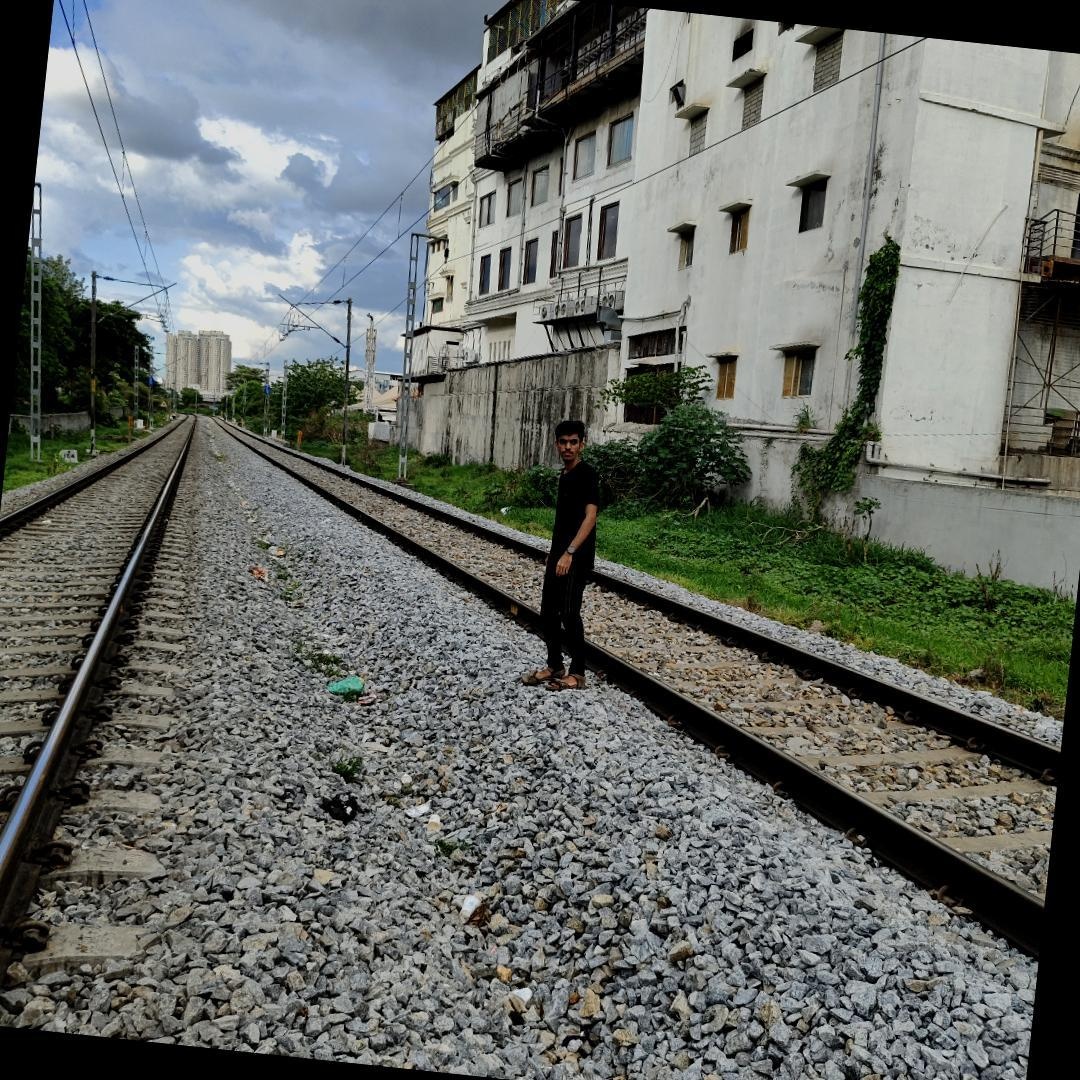standing: (526, 407, 609, 697)
